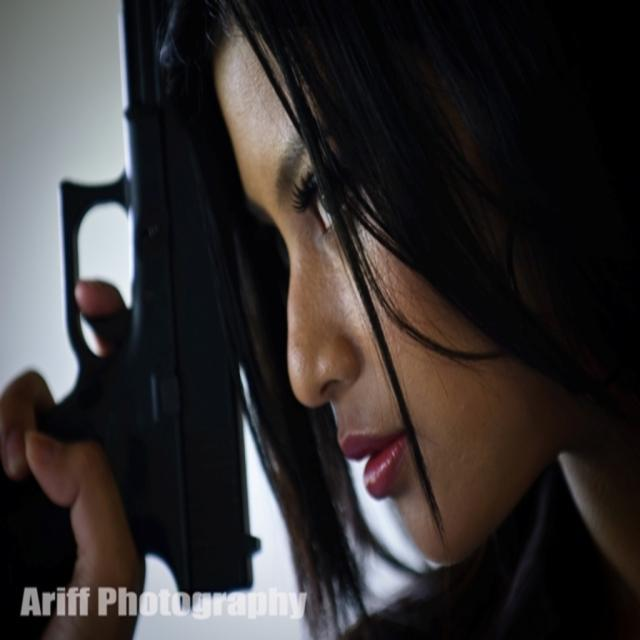Gun: (40, 0, 256, 593)
